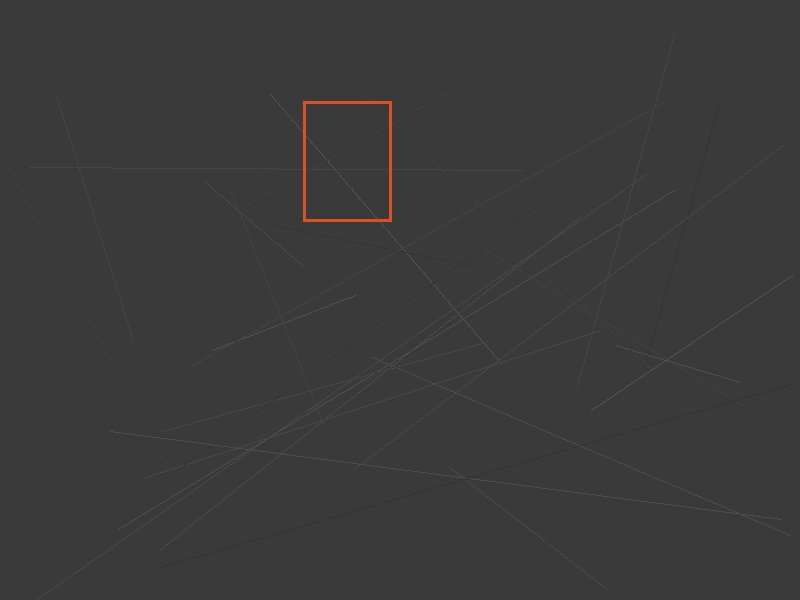D20: (303, 101, 391, 221)
